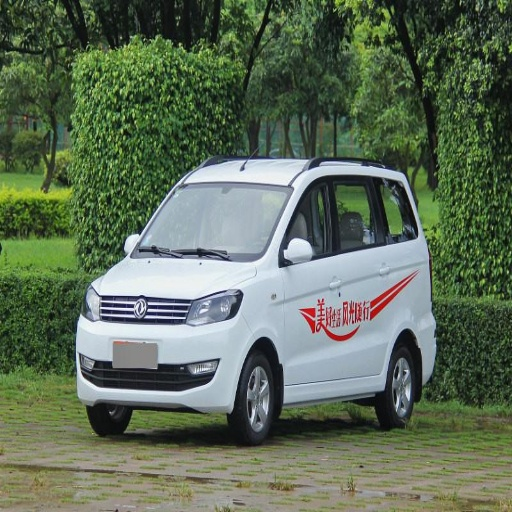front_bumper: (76, 295, 251, 406)
front_glass: (132, 180, 292, 260)
front_left_door: (279, 176, 351, 383)
